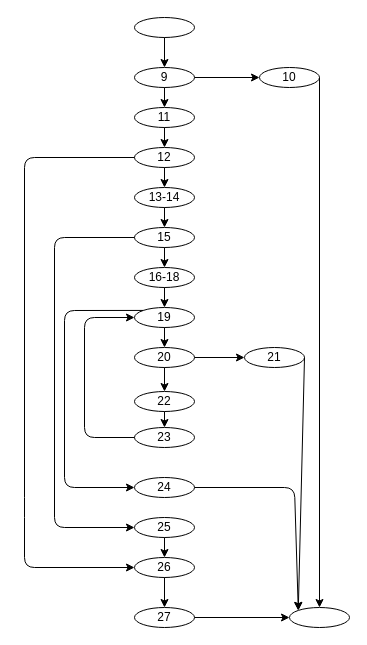
The diagram is 367 pixels wide and 645 high, and some of its shapes have lost their labels. The shapes that lost their labels are listed below. From the top down, each one's centre as x and y in pixels, then its label:
pixel 164 27: Start
pixel 319 617: Ende
